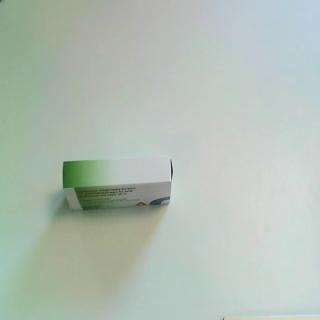oxynorm10mg: (61, 155, 175, 215)
